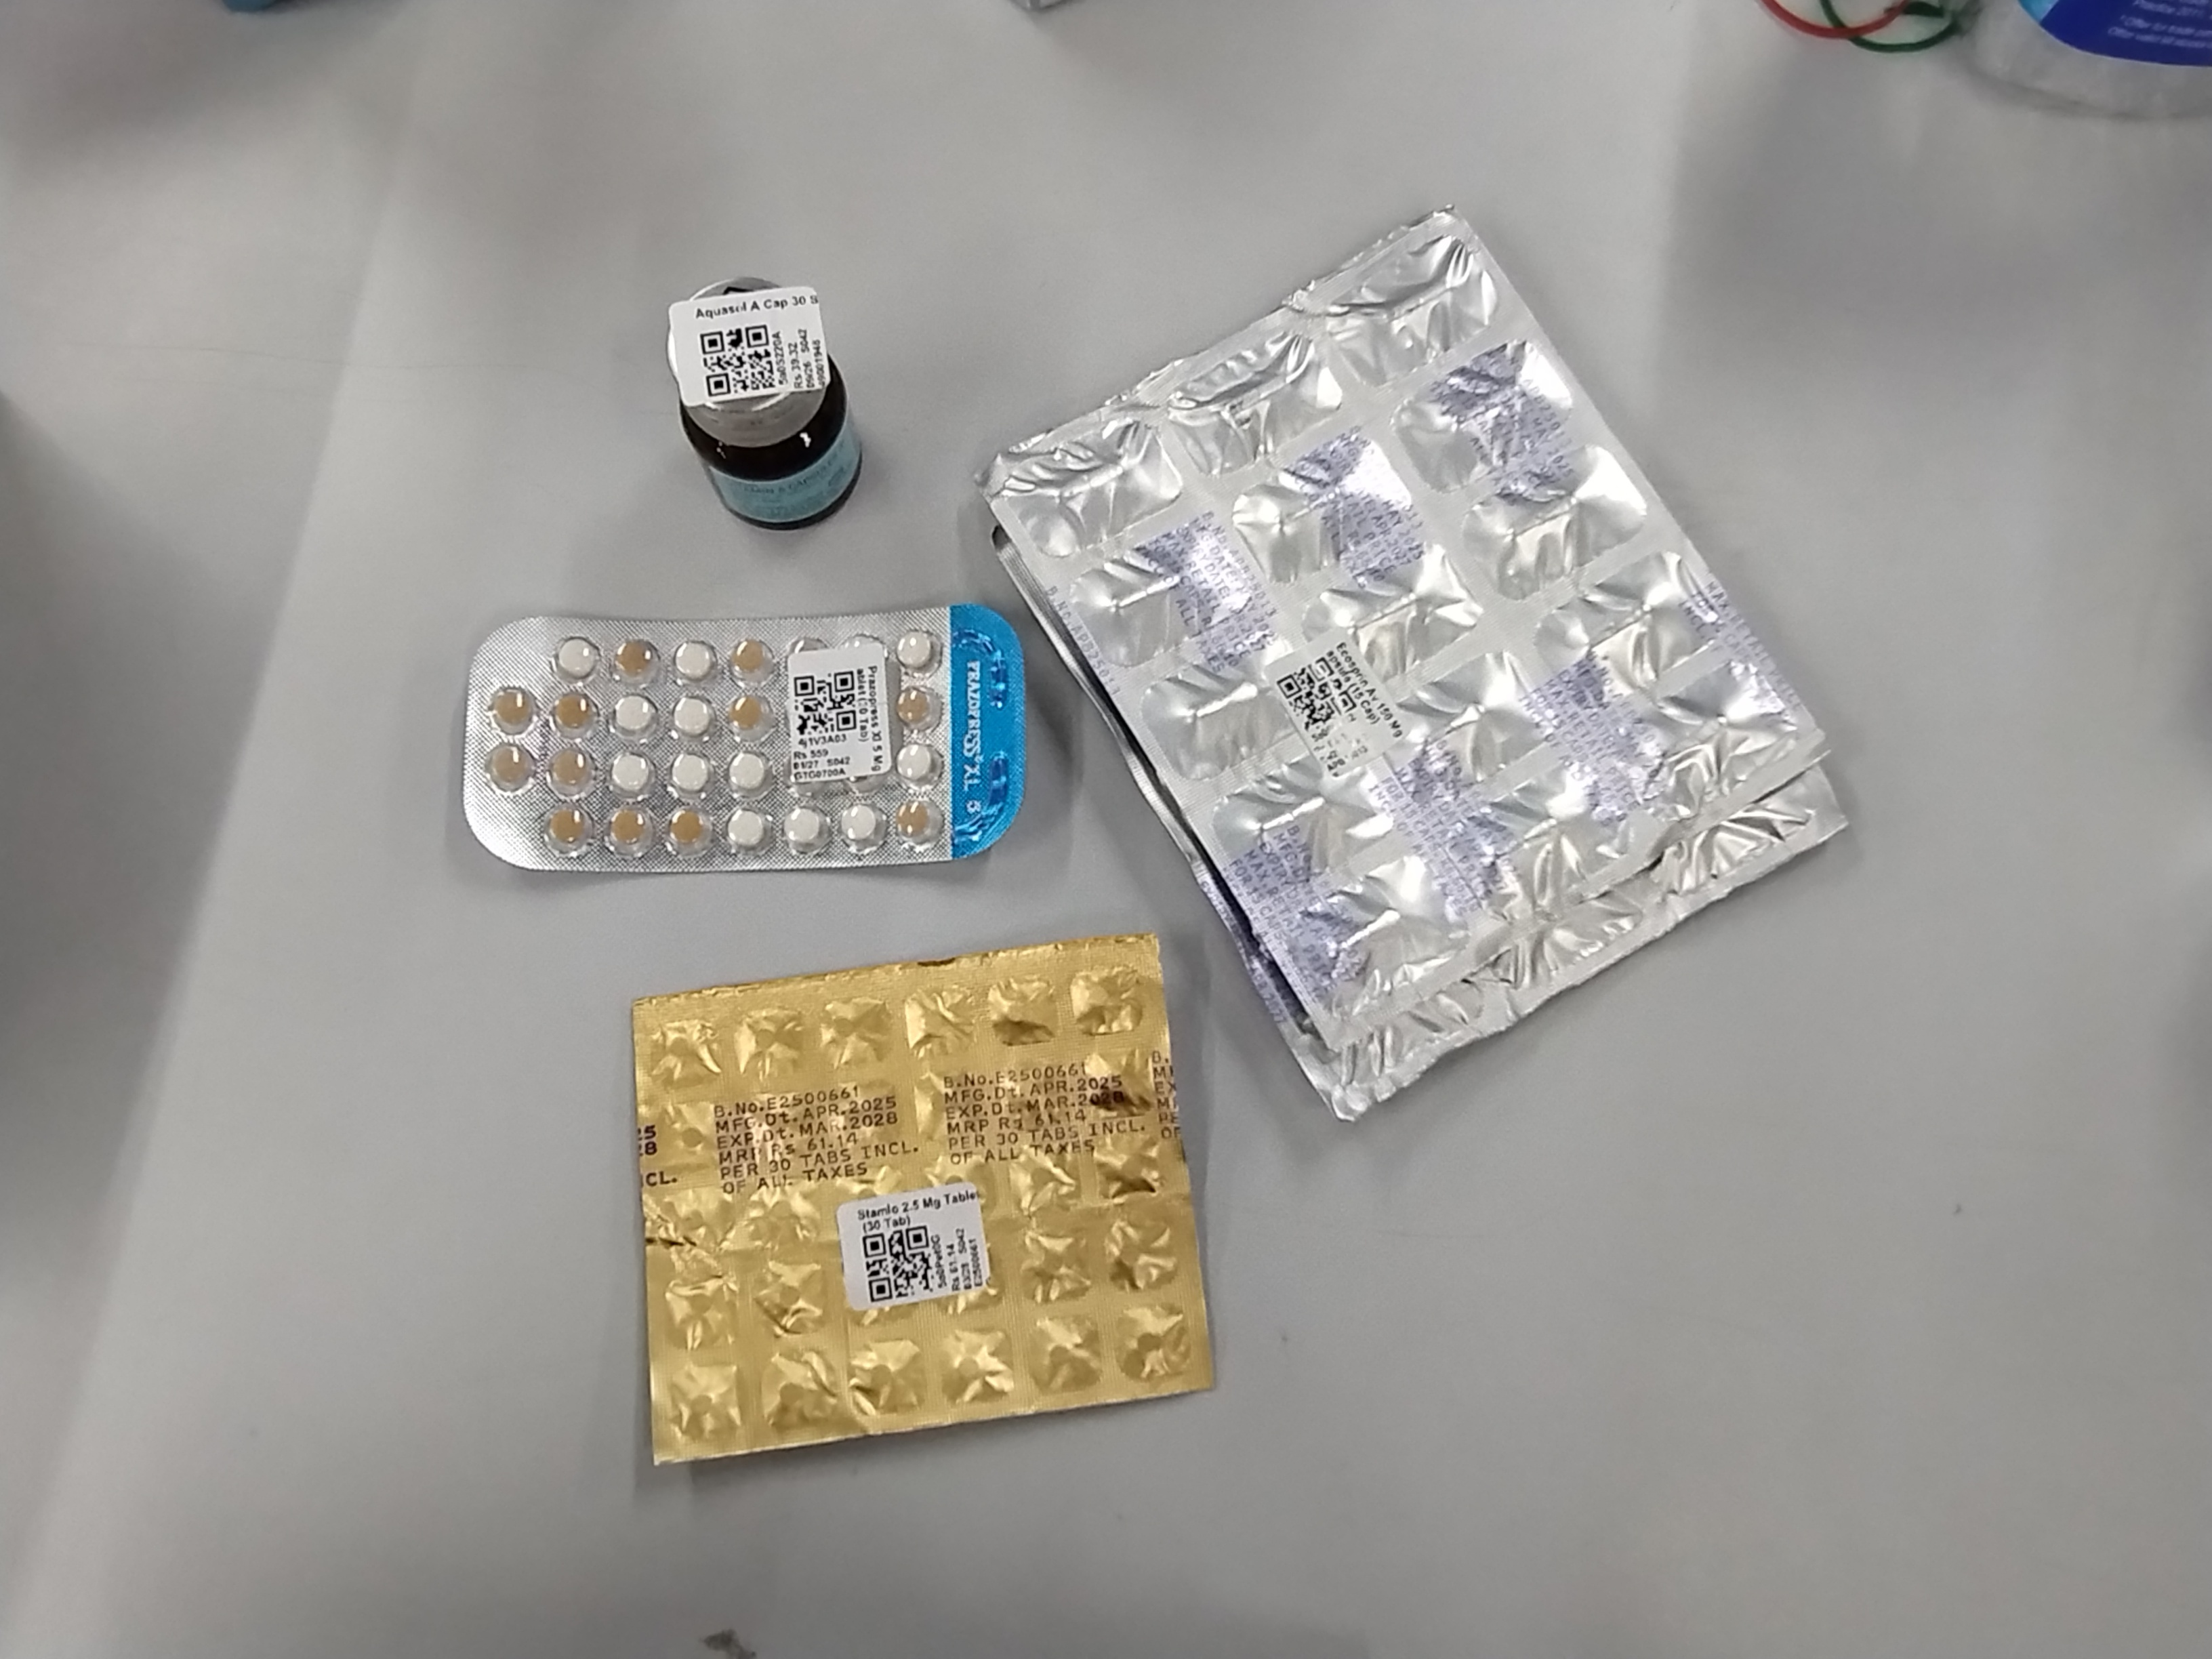QR: (792, 636, 855, 702)
